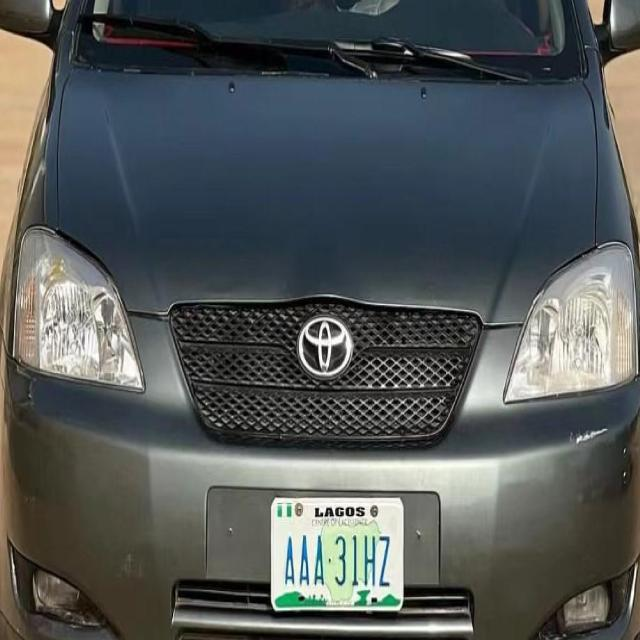Nigerian License Plate - vdataset benjamin-daria: (267, 496, 406, 621)
